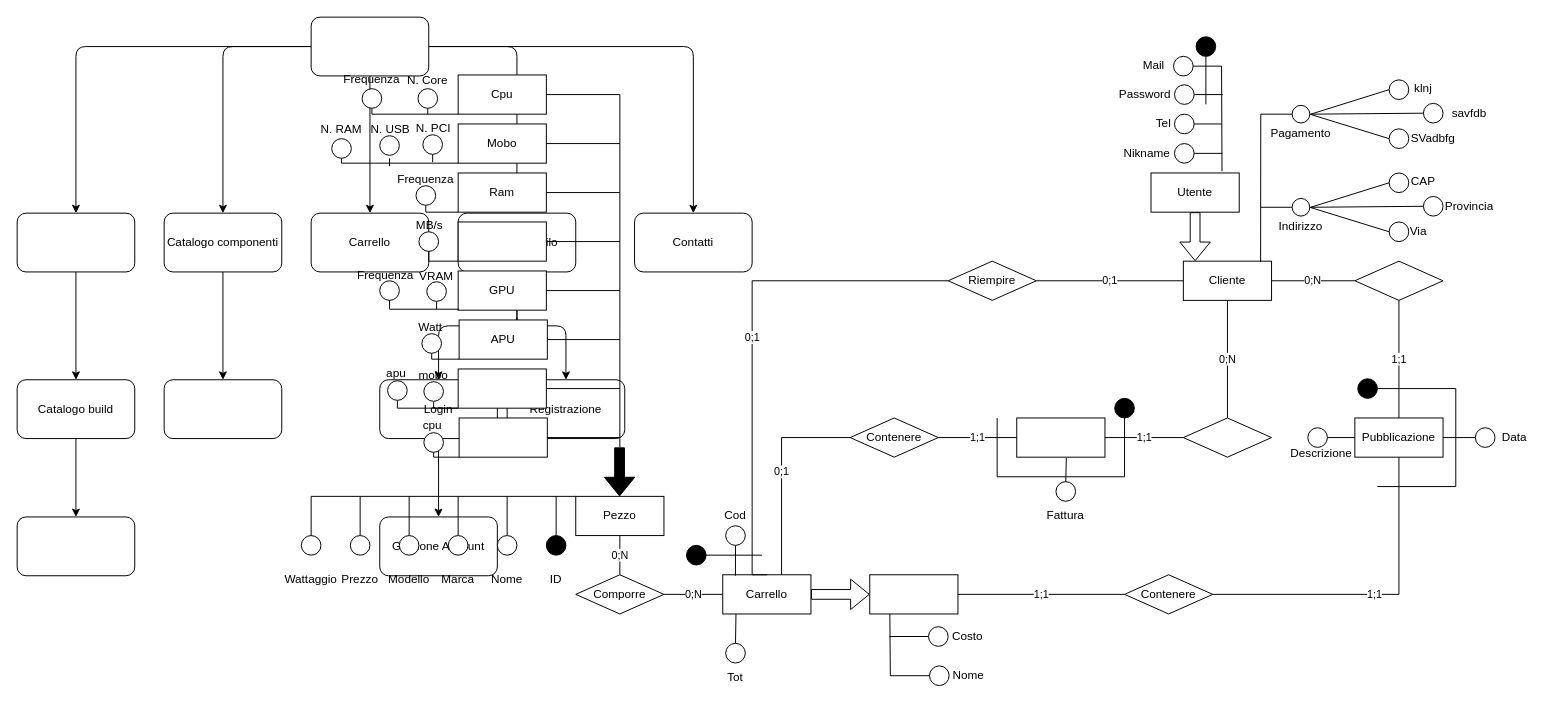
Image size: 1561x710. Some labels were removed from this diagram. The shapes that lost their labels are listed below. From the top down, each one's centre as x and y in pixels, then its label:
At point (369, 46): "Home page".
At point (75, 242): "Crea Build".
At point (501, 241): "HDD/SSD".
At point (1398, 280): "Effettuare".
At point (501, 388): "Case".
At point (222, 409): "Visualizza componente".
At point (502, 437): "Dissipatore".
At point (1060, 437): "Ordine".
At point (1227, 437): "Eseguire".
At point (75, 546): "Visualizza build".
At point (913, 594): "Build".
